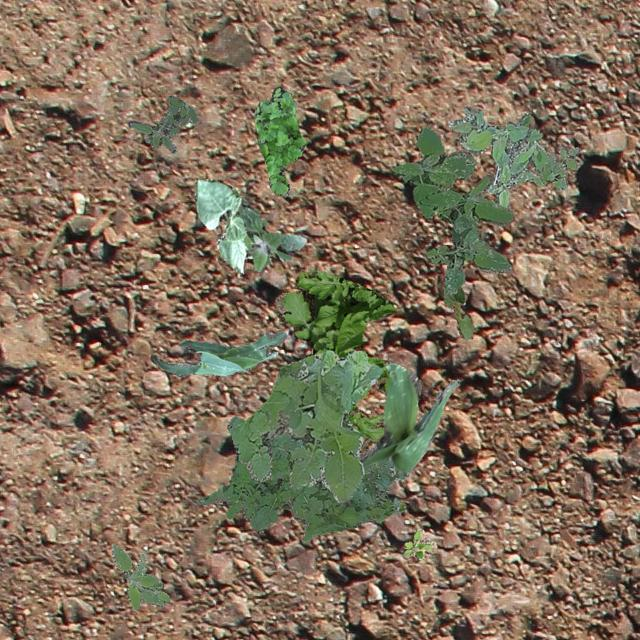crop: (358, 362, 458, 474), (150, 330, 286, 376), (194, 178, 246, 272), (442, 276, 472, 340)
weed: (194, 416, 406, 540), (230, 350, 382, 504), (274, 268, 394, 454), (392, 126, 514, 294), (448, 106, 548, 208), (216, 198, 306, 270), (253, 86, 304, 196), (128, 95, 198, 152), (110, 542, 168, 608), (534, 146, 580, 190), (402, 528, 436, 560)
